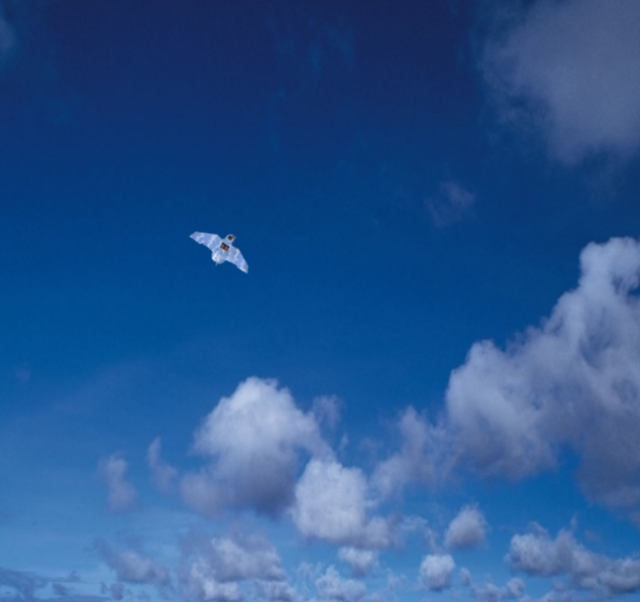military drone: (189, 230, 248, 274)
